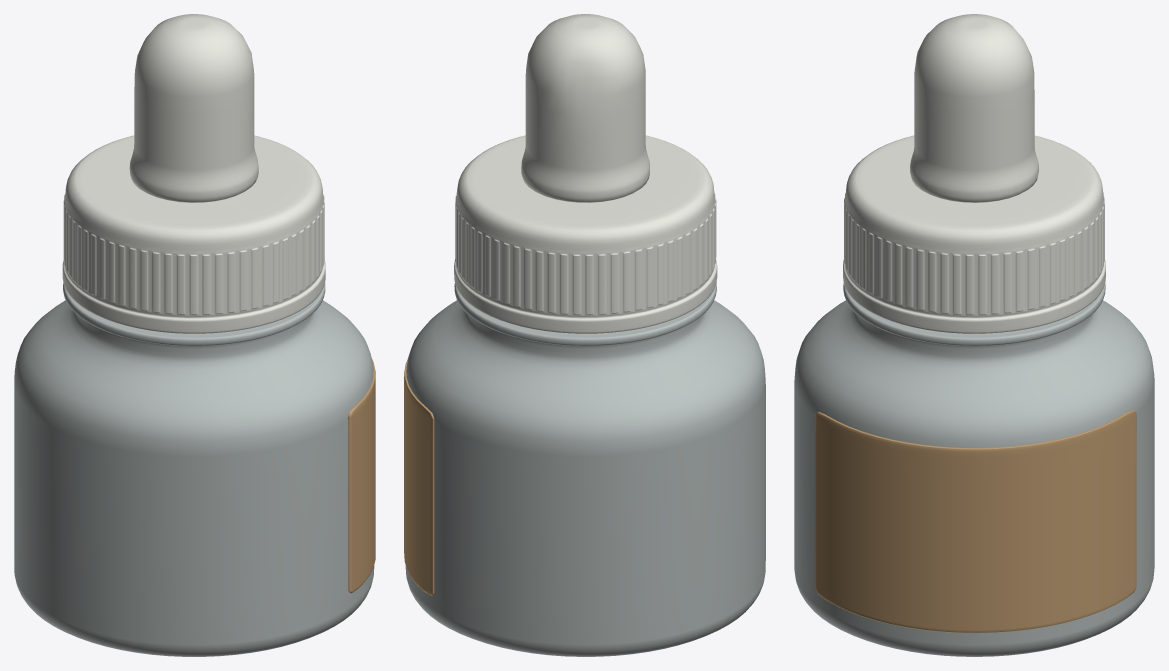
The model's file is paint_container_bottle_yellow_a01.glb.
3 renders of one model, left to right at view 1: azimuth 30°, elevation 25°; view 2: azimuth 150°, elevation 25°; view 3: azimuth 270°, elevation 25°, orthographic.
Size of the model in its own units: 0.0505 by 0.0865 by 0.0503.
